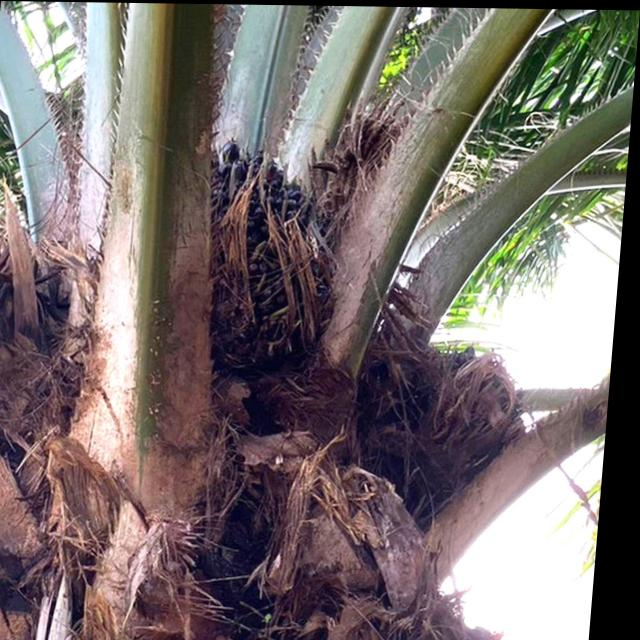unripe: (183, 119, 363, 399)
